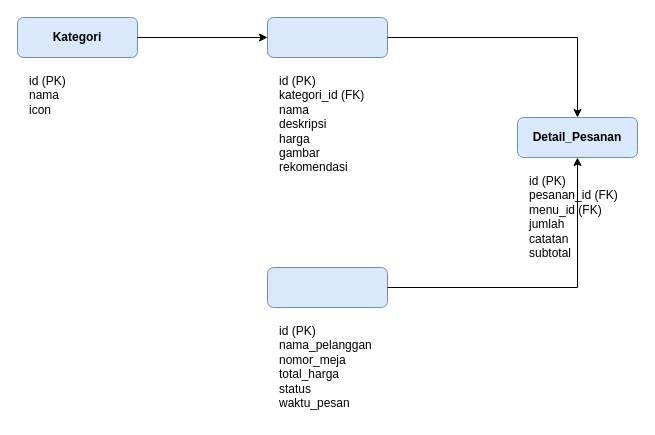
The diagram is 655 pixels wide and 435 high, and some of its shapes have lost their labels. The shapes that lost their labels are listed below. From the top down, each one's centre as x and y in pixels, then its label:
At point (327, 37): "Menu".
At point (327, 287): "Pesanan".
